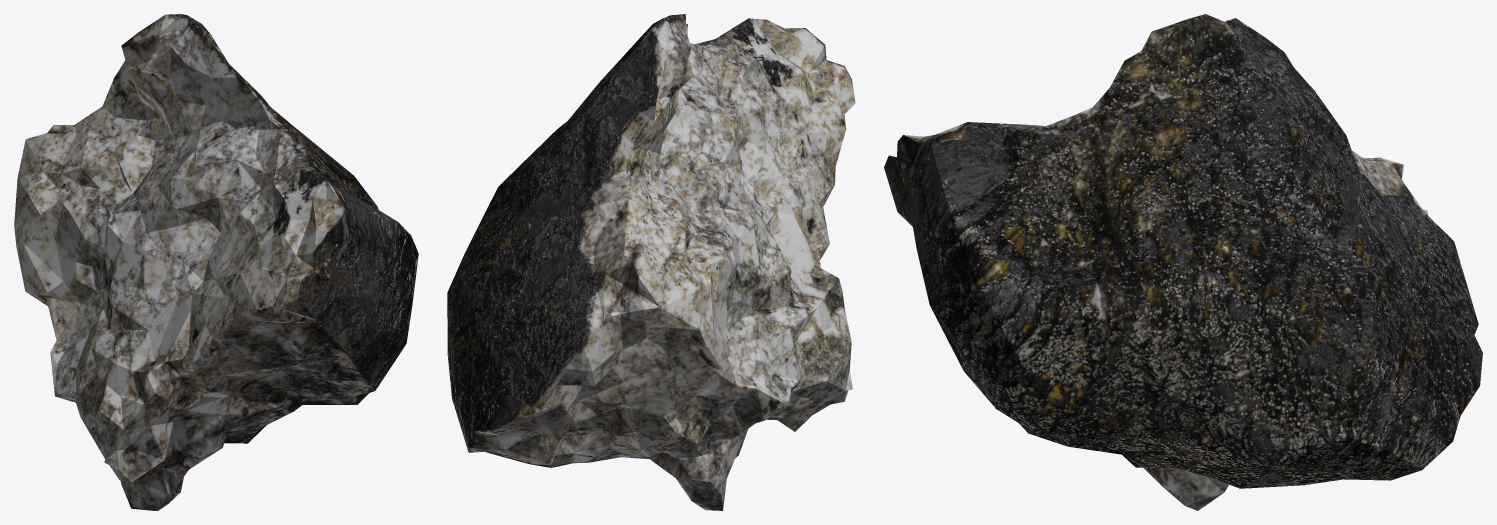
Rendered from GRO17049-8.fbx.
3 renders of one model, left to right at view 1: azimuth 30°, elevation 25°; view 2: azimuth 150°, elevation 25°; view 3: azimuth 270°, elevation 25°, orthographic. The views are drawn at different scales.
Visible parts, largest first — view 1: GRO17049-8; view 2: GRO17049-8; view 3: GRO17049-8.
Boxes of the visible parts, <box> form: GRO17049-8: <box>14,14,418,510</box>; GRO17049-8: <box>447,14,855,510</box>; GRO17049-8: <box>884,14,1482,510</box>.
Bounding box in the file's own units: 26.79 × 42.43 × 44.56.
